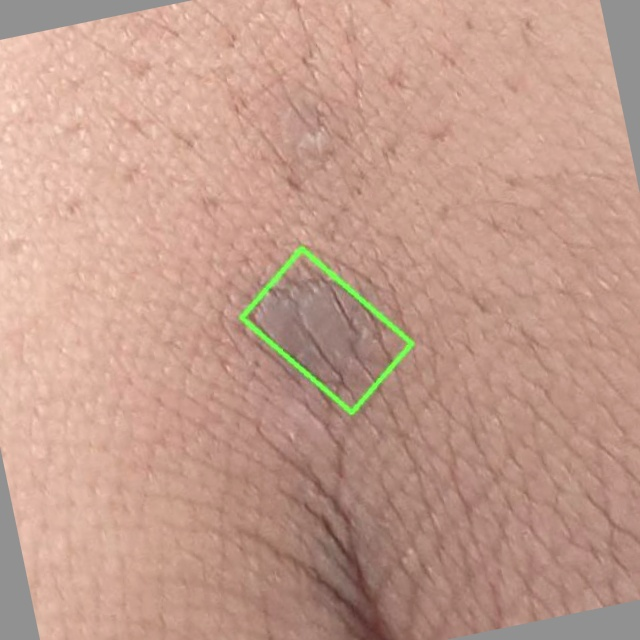Scabies: (241, 248, 411, 413)
